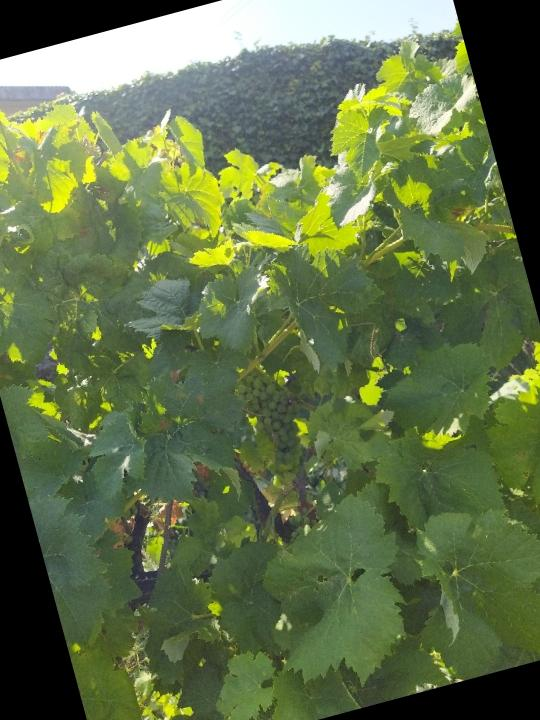grape: (231, 362, 325, 502)
